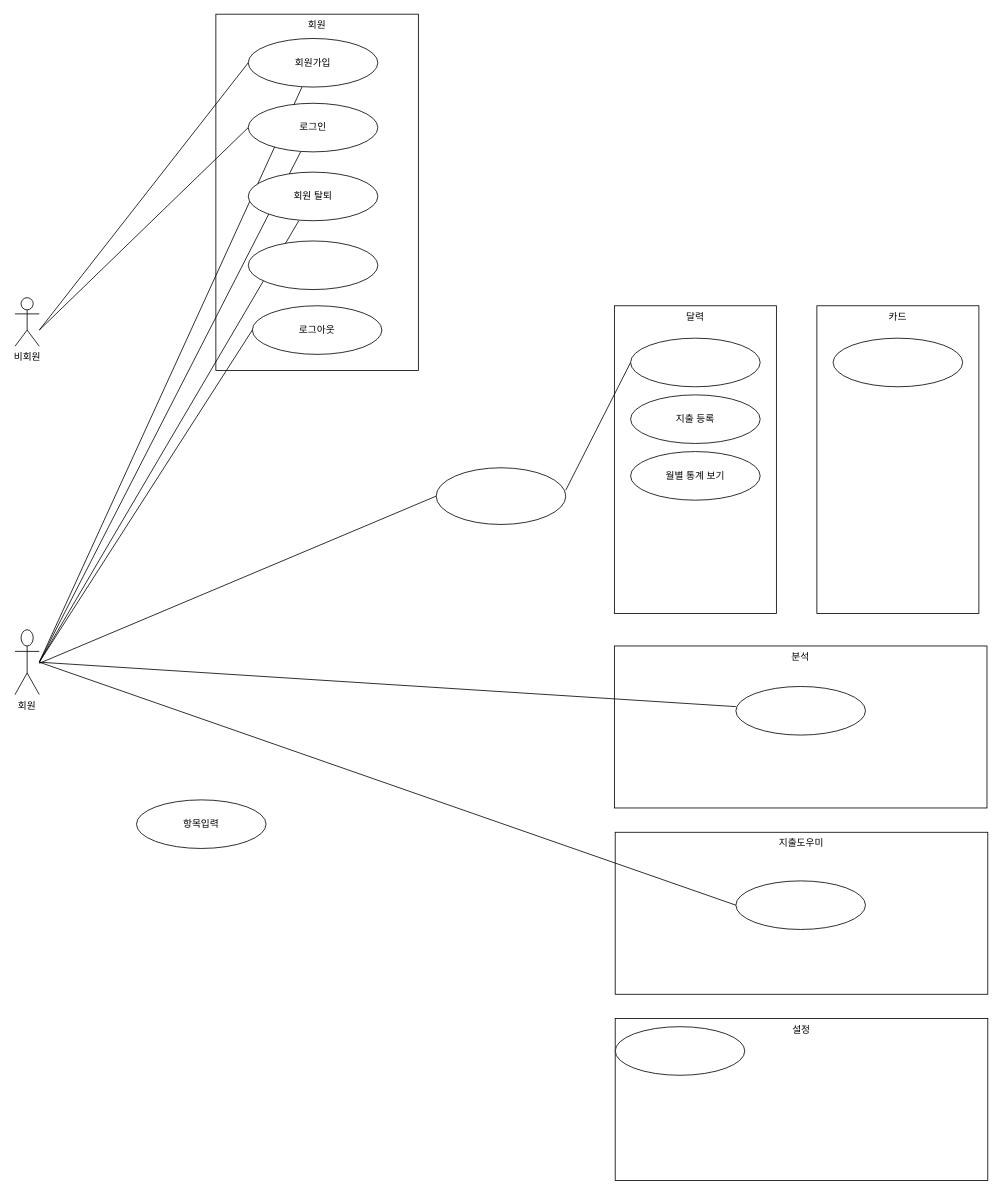
The diagram is 1002 pixels wide and 1195 high, and some of its shapes have lost their labels. Here are the shapes that lost their labels. From the top down, the centre of each, then its label:
At [312,265]: "회원정보 수정".
At [695,362]: "수입 등록".
At [897,362]: "오늘 요약 보기".
At [500,495]: "홈화면".
At [800,710]: "GPT 소비 분석 받기".
At [800,904]: "GPT 지출 도우미".
At [679,1050]: "소비내역 다운로드".
